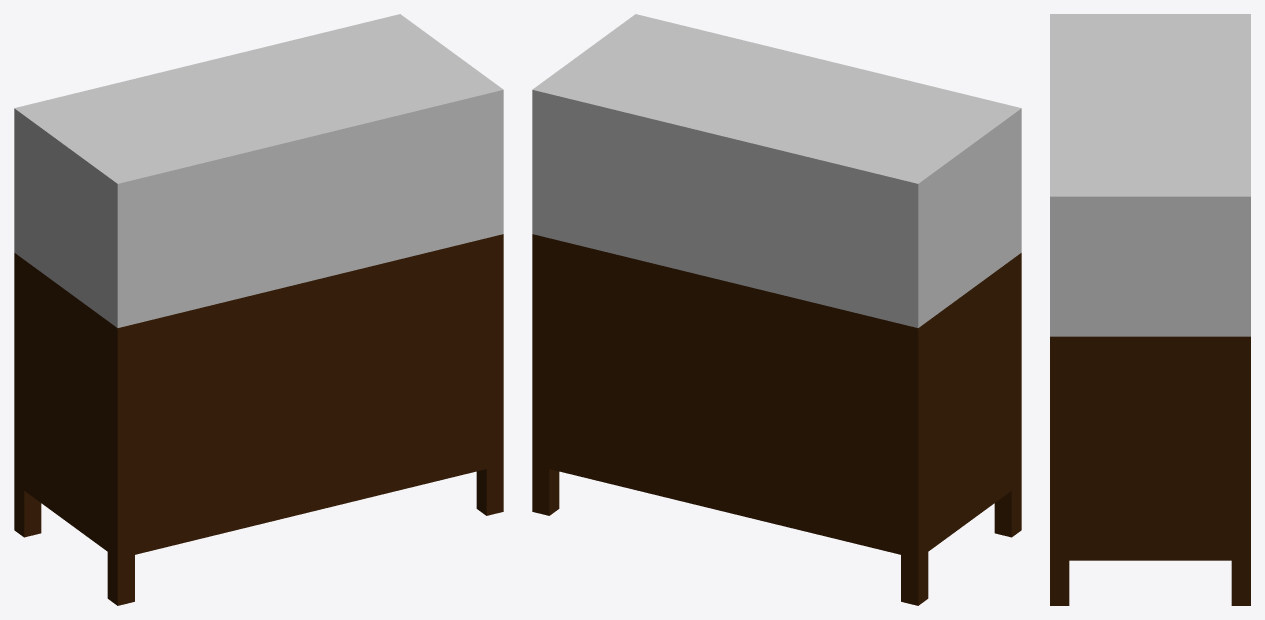
The model's file is Vitrina_2.fbx.
3 renders of one model, left to right at view 1: azimuth 30°, elevation 25°; view 2: azimuth 150°, elevation 25°; view 3: azimuth 270°, elevation 25°, orthographic. The views are drawn at different scales.
Visible parts, largest first — view 1: Cube.001; view 2: Cube.001; view 3: Cube.001.
Boxes of the visible parts, x1,y1,x2,y2 form: Cube.001: (14, 14, 503, 605); Cube.001: (532, 14, 1021, 605); Cube.001: (1050, 14, 1250, 605).
Bounding box in the file's own units: 112 × 117 × 52.
